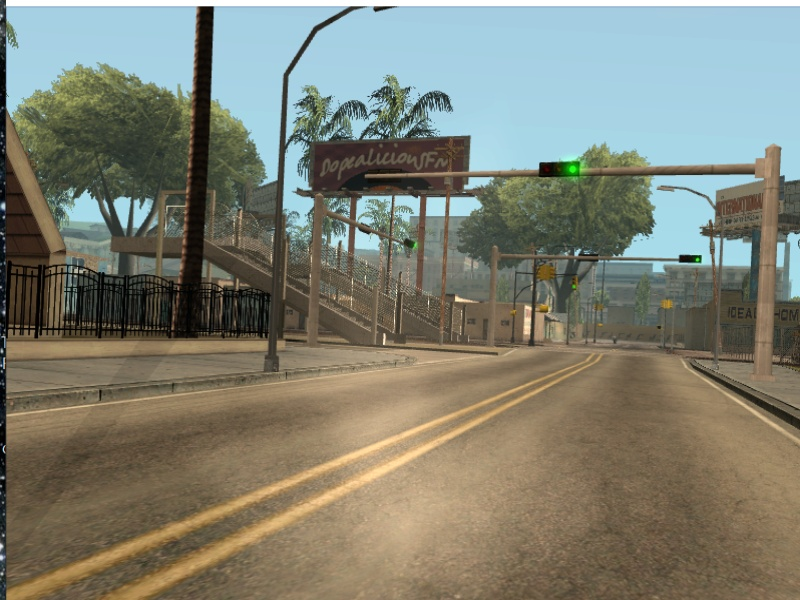pole: (754, 143, 784, 385), (264, 72, 285, 378), (305, 196, 324, 346), (716, 210, 726, 374), (487, 248, 502, 354), (531, 259, 539, 350), (510, 270, 517, 343)
